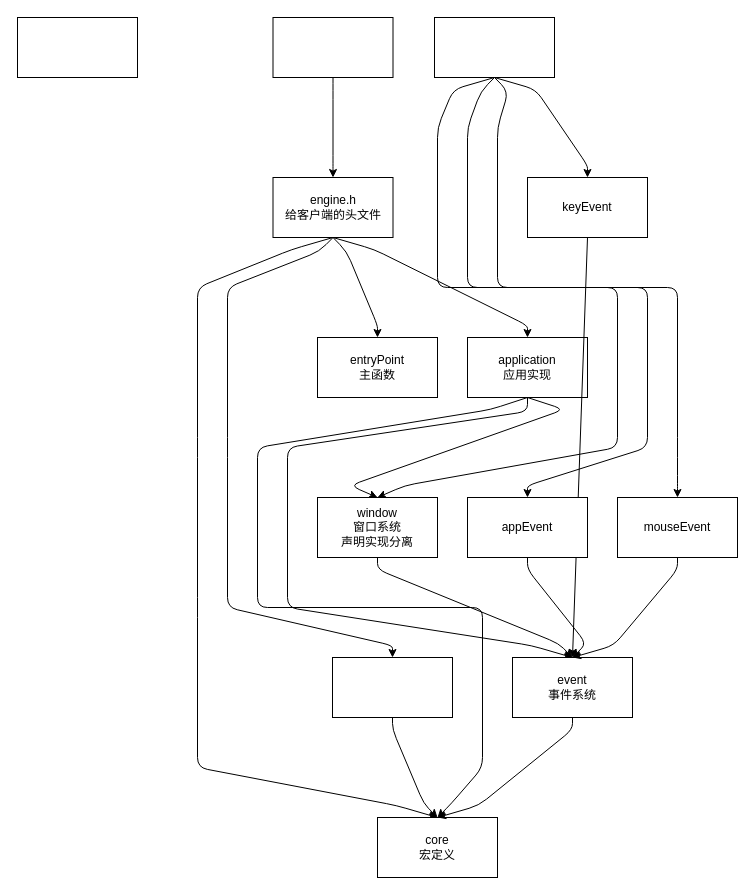
Some shapes in this 755 by 895 pixel diagram are drawn without their labels. Here are the shapes that lost their labels. From the top down, the centre of each, then its label:
At pixel 77 47: "pch 预编译头文件 需在所有编译单元".
At pixel 332 47: "sandboxApp 使用引擎应用".
At pixel 494 47: "window_win".
At pixel 392 687: "log 日志输出".
